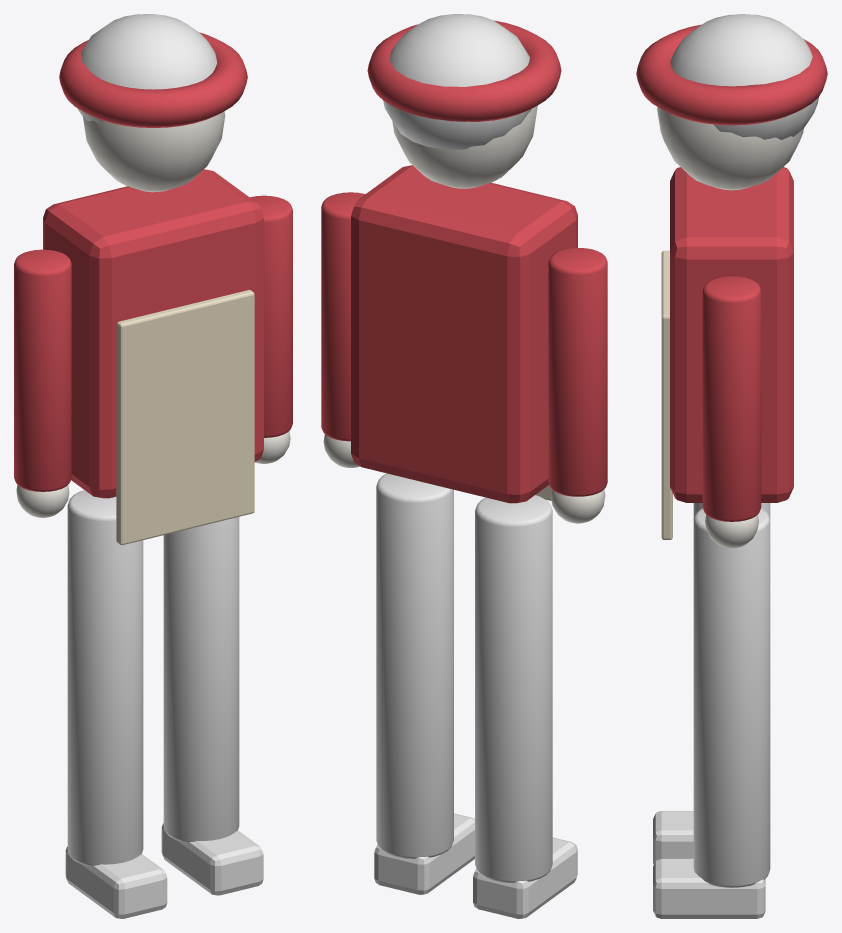
File: SM_NPC_DiMan.fbx
The picture shows the model from 3 angles, left to right: view 1: azimuth 30°, elevation 25°; view 2: azimuth 150°, elevation 25°; view 3: azimuth 270°, elevation 25°; orthographic projection. The views are drawn at different scales.
Visible parts, largest first — view 1: Torso.001, LegL.001, LegR.001, Head.001, ArmL.001, ArmR.001; view 2: Torso.001, LegL.001, LegR.001, Head.001, ArmL.001, ArmR.001; view 3: LegR.001, Torso.001, Head.001, ArmR.001, LegL.001.
Part boxes in pixels (x1=…): Torso.001: x1=43, y1=169, x2=263, y2=545; LegL.001: x1=65, y1=490, x2=167, y2=918; LegR.001: x1=161, y1=517, x2=263, y2=895; Head.001: x1=59, y1=14, x2=247, y2=192; ArmL.001: x1=14, y1=249, x2=71, y2=517; ArmR.001: x1=250, y1=195, x2=292, y2=463; Torso.001: x1=351, y1=165, x2=577, y2=503; LegL.001: x1=473, y1=495, x2=577, y2=918; LegR.001: x1=374, y1=473, x2=474, y2=894; Head.001: x1=367, y1=14, x2=561, y2=188; ArmL.001: x1=548, y1=248, x2=607, y2=523; ArmR.001: x1=321, y1=192, x2=365, y2=467; LegR.001: x1=653, y1=508, x2=770, y2=918; Torso.001: x1=661, y1=167, x2=793, y2=539; Head.001: x1=636, y1=14, x2=827, y2=190; ArmR.001: x1=702, y1=276, x2=761, y2=548; LegL.001: x1=653, y1=503, x2=770, y2=864.
Bounding box in the file's own units: 0.564 × 1.69 × 0.34.
